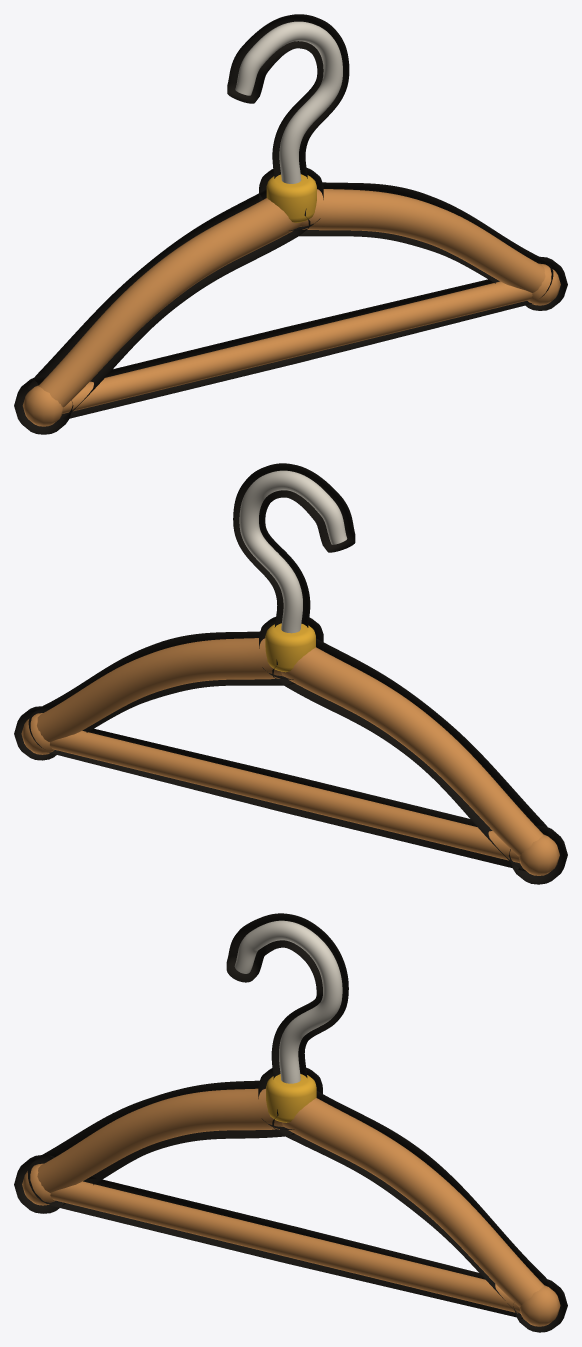
Rendered from hanger.glb.
3 views of the same model, one above another, from view 1: azimuth 30°, elevation 25°; view 2: azimuth 150°, elevation 25°; view 3: azimuth 330°, elevation 25° (orthographic).
Parts seen in each view (by area): view 1: Hanger, Hanger_outline; view 2: Hanger, Hanger_outline; view 3: Hanger, Hanger_outline.
Boxes of the visible parts, x1,y1,x2,y2 form: Hanger: (22, 21, 560, 426); Hanger_outline: (14, 14, 567, 434); Hanger: (21, 470, 559, 875); Hanger_outline: (14, 463, 567, 884); Hanger: (22, 920, 560, 1326); Hanger_outline: (14, 913, 567, 1332).
Bounding box in the file's own units: 2.25 × 1.4 × 0.2299.
